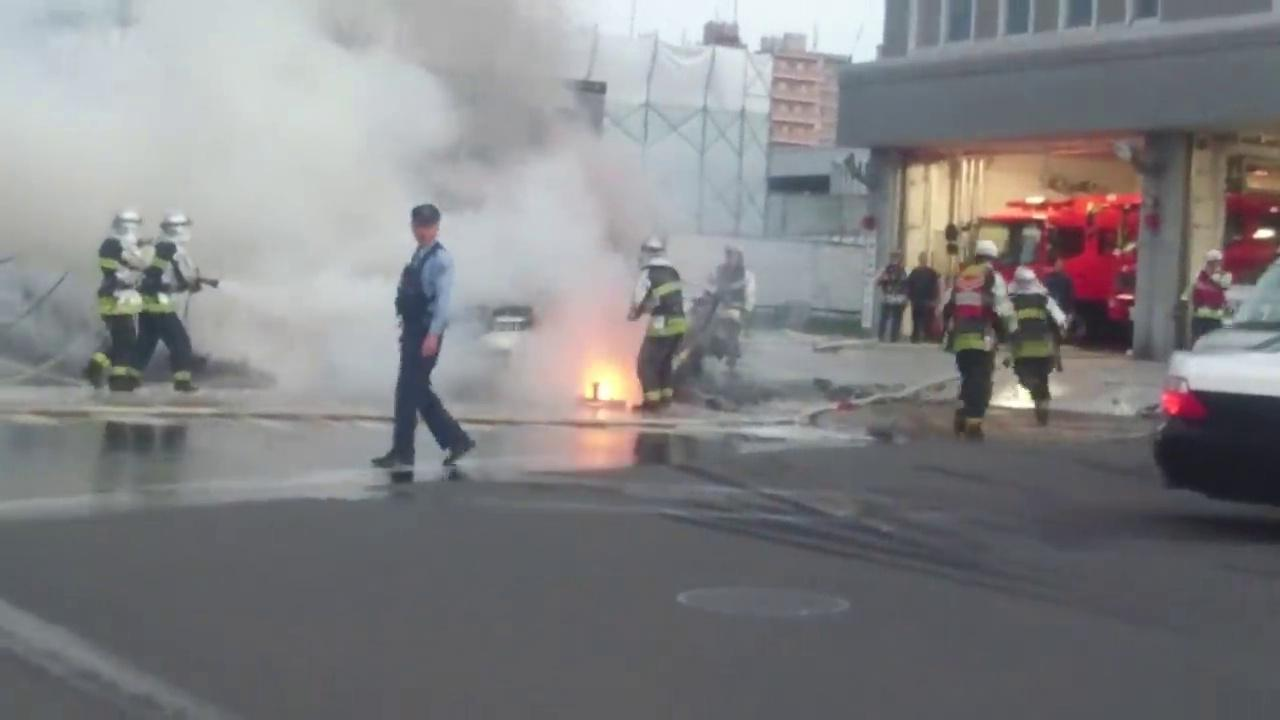Fire: (579, 362, 635, 402)
